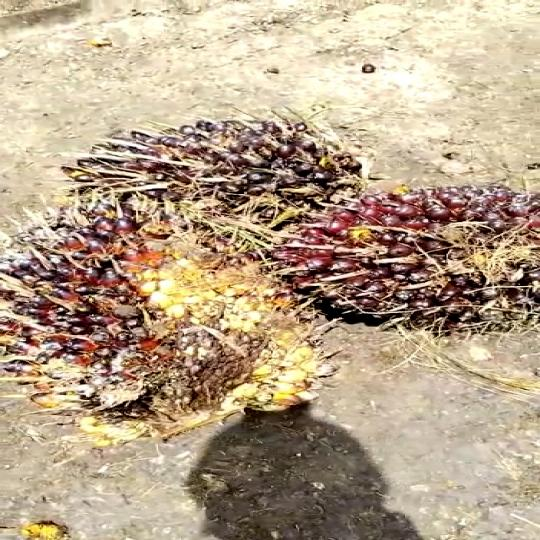kurang masak: (0, 196, 322, 445), (283, 184, 540, 340), (68, 120, 360, 236)
